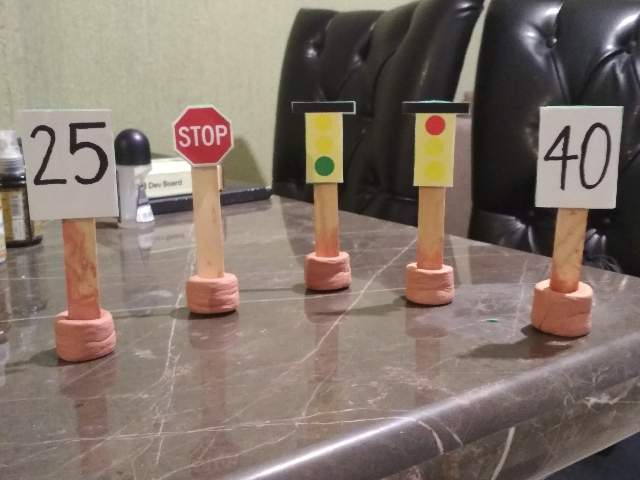Green Traffic Light: (289, 100, 357, 186)
Red Traffic Light: (400, 100, 471, 189)
Speed Limit 25: (11, 104, 123, 223)
Speed Limit 40: (529, 99, 627, 211)
Stop Sign: (168, 103, 236, 167)
